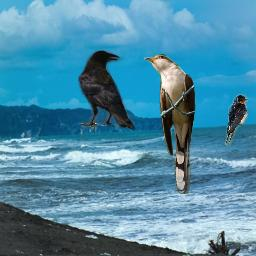Crow: (78, 50, 136, 132)
Cuckoo: (144, 54, 196, 194)
Swallow: (224, 94, 248, 146)
